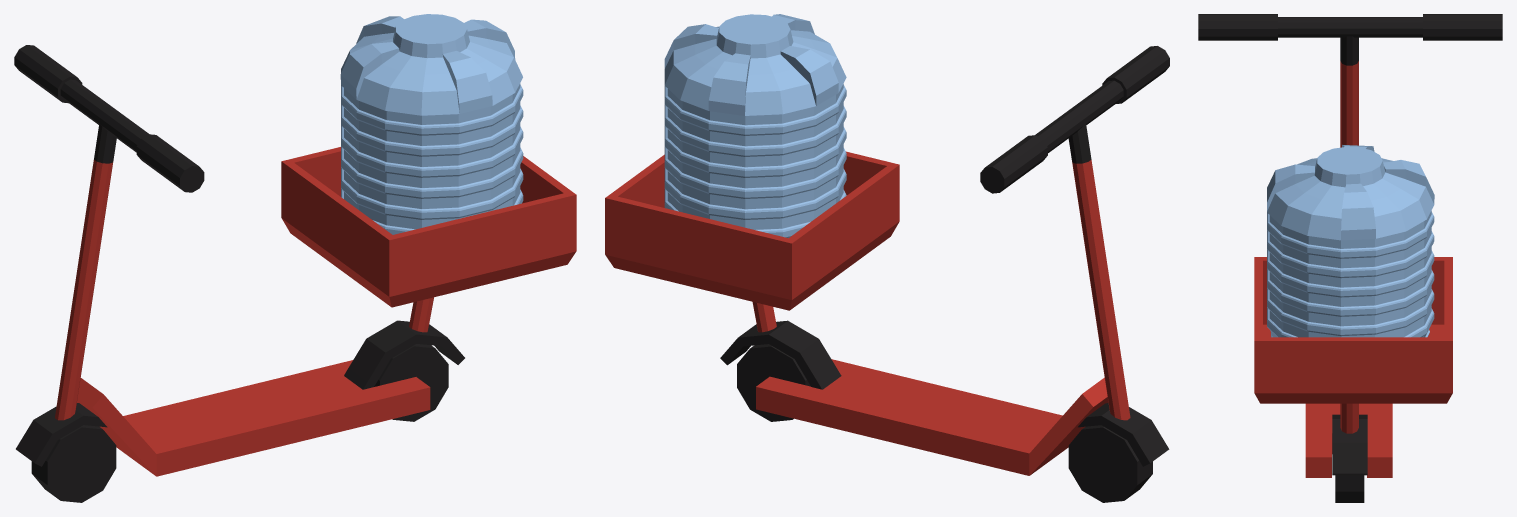
File: scooter wheels centered.fbx
3 renders of one model, left to right at view 1: azimuth 30°, elevation 25°; view 2: azimuth 150°, elevation 25°; view 3: azimuth 270°, elevation 25°, orthographic. The views are drawn at different scales.
Parts seen in each view (by area): view 1: scooter, water tank, scooter frontwheel, scooter backwheel; view 2: scooter, water tank, scooter frontwheel, scooter backwheel; view 3: scooter, water tank, scooter backwheel.
Part boxes in pixels (bbox=[...]): scooter: bbox=[14, 45, 576, 476]; water tank: bbox=[340, 14, 523, 234]; scooter frontwheel: bbox=[31, 425, 116, 502]; scooter backwheel: bbox=[374, 344, 448, 421]; scooter: bbox=[605, 46, 1169, 475]; water tank: bbox=[664, 14, 846, 238]; scooter frontwheel: bbox=[1068, 425, 1152, 502]; scooter backwheel: bbox=[737, 344, 810, 421]; scooter: bbox=[1198, 14, 1502, 477]; water tank: bbox=[1267, 145, 1434, 337]; scooter backwheel: bbox=[1335, 475, 1364, 502].
Size of the model in its own units: 221 by 162 by 127.
